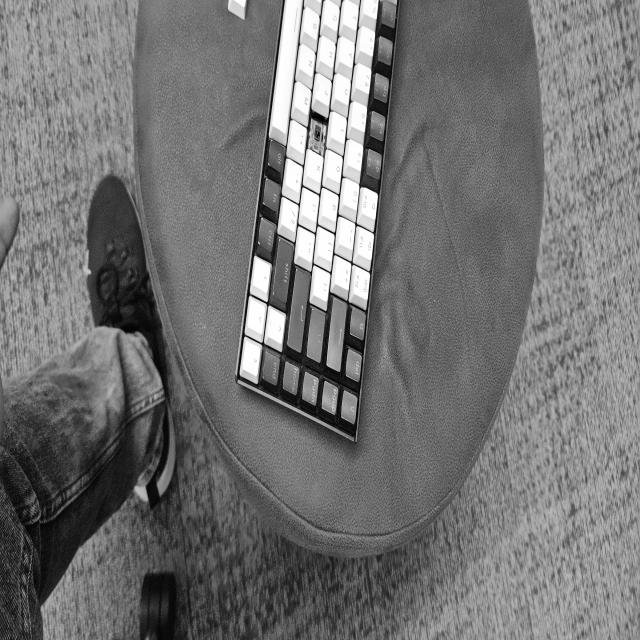C: (312, 116, 323, 152)
